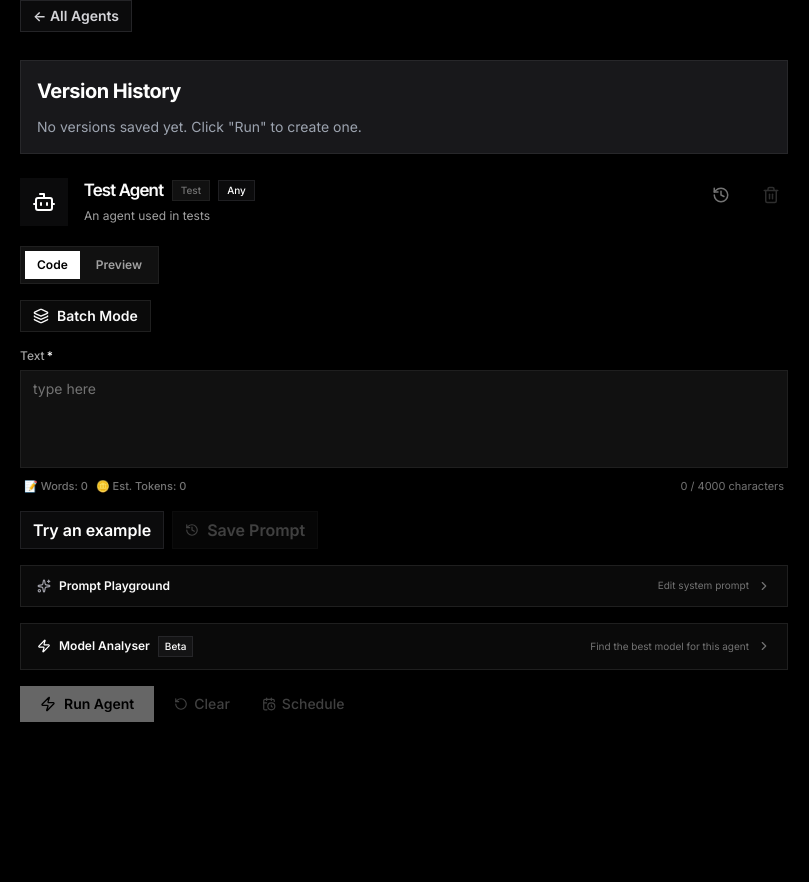
Test: AgentRunner: stream cancellation lifecycle › Clear while streaming must not resurrect the cancelled output or record a run
Type "some input" into the text box at [404, 419], box [20,370,788,468]
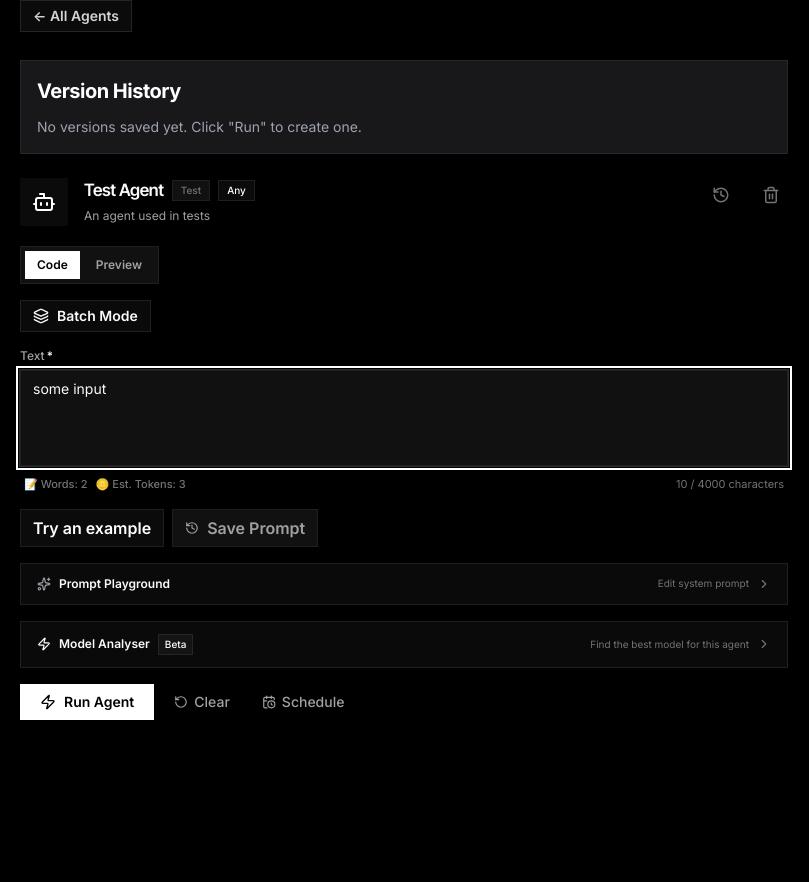
Expected: the button "Run Agent" is enabled
Click the button "Run Agent" at [87, 702], box [20,684,154,720]
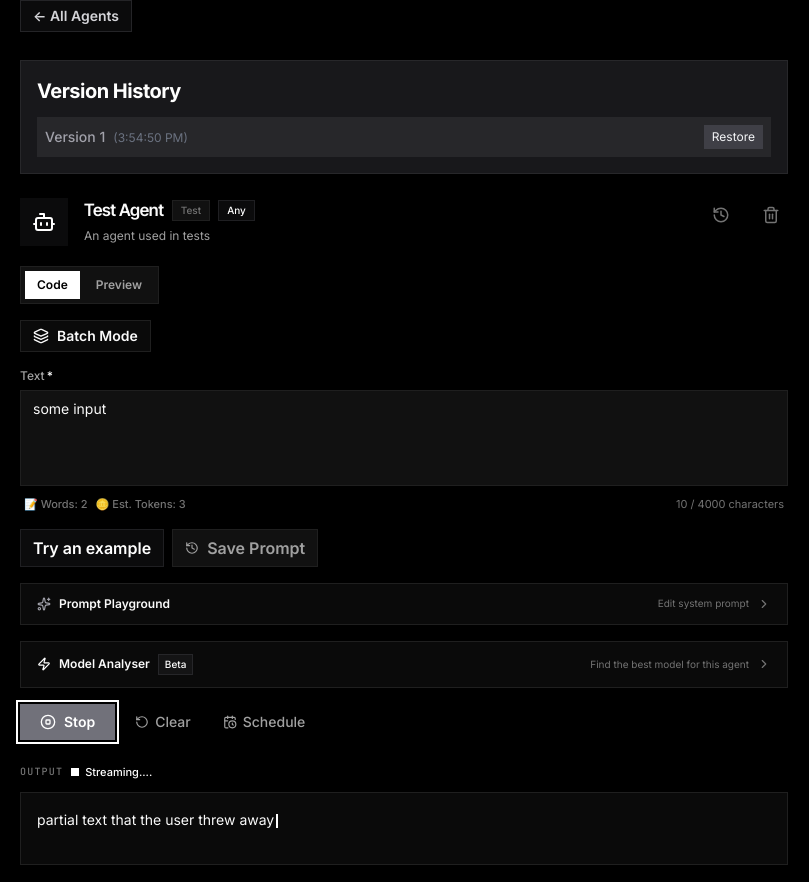
Click the button "Clear" at [163, 722], box [123,706,203,738]
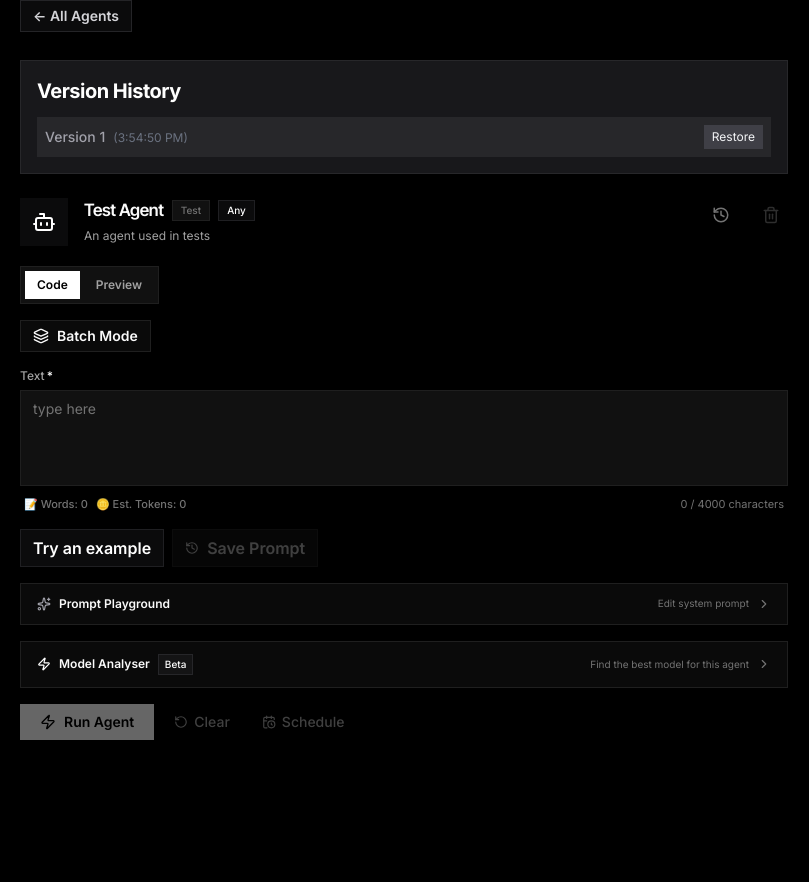
Expected: the button "Run Agent" is shown, [20,704,154,740]
